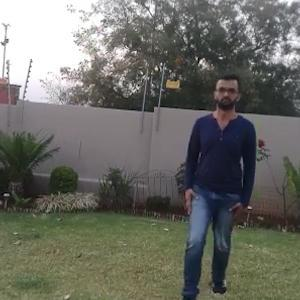follow: (186, 82, 250, 284)
